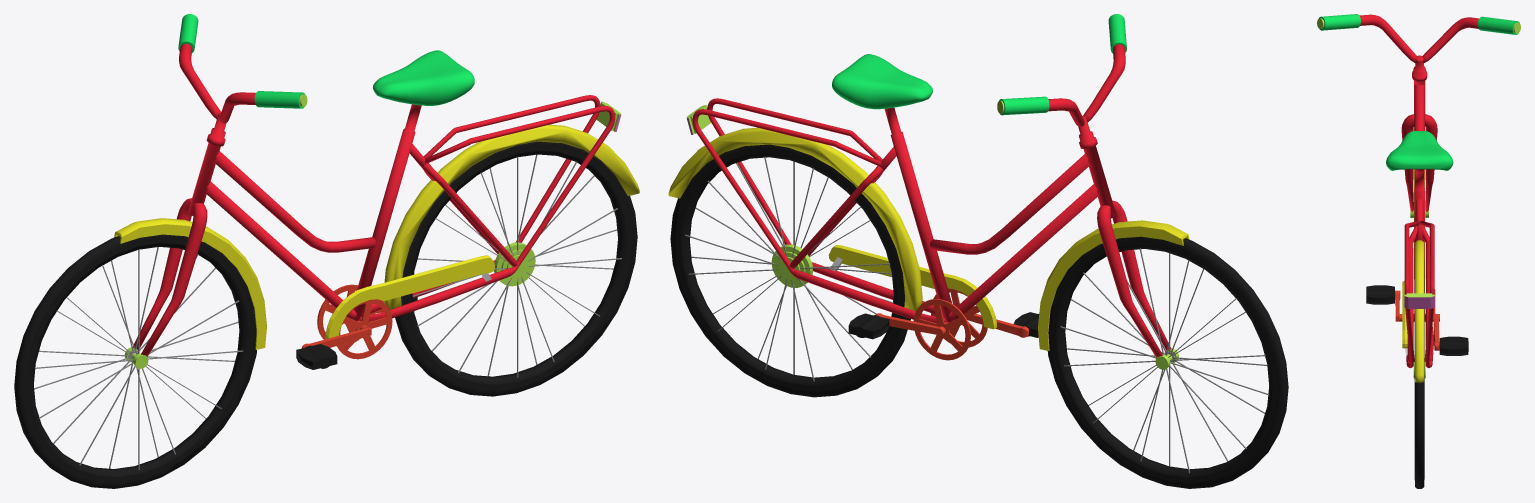
Rendered from bicycle.fbx.
3 views of the same model, side by side, from view 1: azimuth 30°, elevation 25°; view 2: azimuth 150°, elevation 25°; view 3: azimuth 270°, elevation 25° (orthographic). The views are drawn at different scales.
Parts seen in each view (by area): view 1: Cylinder, Cylinder.011_Cylinder.015, Cylinder.016_Cylinder.020, Cylinder.010_Cylinder.013, Cylinder.001_Cylinder.003, Cube.010_Cube.025, Cylinder.012_Cylinder.016, Cylinder.022_Cylinder.030, Cube_Cube.012, Cylinder.009_Cylinder.012, Cylinder.007_Cylinder.010, Cylinder.005_Cylinder.008 (+11 smaller); view 2: Cylinder, Cylinder.011_Cylinder.015, Cylinder.016_Cylinder.020, Cylinder.010_Cylinder.013, Cylinder.001_Cylinder.003, Cube.010_Cube.025, Cylinder.012_Cylinder.016, Cylinder.022_Cylinder.030, Cylinder.009_Cylinder.012, Cylinder.007_Cylinder.010, Cylinder.006_Cylinder.009, Cylinder.017_Cylinder.023 (+11 smaller); view 3: Cube.010_Cube.025, Cylinder.016_Cylinder.020, Cylinder.025_Cylinder.037, Cylinder.010_Cylinder.013, Cylinder.024_Cylinder.038, Cylinder.012_Cylinder.016, Cylinder.022_Cylinder.030, Cylinder.014_Cylinder.018, Cube.007_Cube.022, Cube.005_Cube.018, Cylinder.005_Cylinder.008, Cylinder.007_Cylinder.010 (+5 smaller).
Boxes of the visible parts, left/top/right/bottom form: Cylinder: left=25, top=237, right=253, bottom=482; Cylinder.011_Cylinder.015: left=403, top=144, right=632, bottom=390; Cylinder.016_Cylinder.020: left=359, top=95, right=615, bottom=321; Cylinder.010_Cylinder.013: left=383, top=124, right=639, bottom=309; Cylinder.001_Cylinder.003: left=14, top=234, right=256, bottom=488; Cube.010_Cube.025: left=373, top=50, right=474, bottom=105; Cylinder.012_Cylinder.016: left=395, top=141, right=637, bottom=396; Cylinder.022_Cylinder.030: left=132, top=198, right=207, bottom=356; Cube_Cube.012: left=325, top=255, right=495, bottom=338; Cylinder.009_Cylinder.012: left=114, top=218, right=266, bottom=349; Cylinder.007_Cylinder.010: left=352, top=104, right=421, bottom=320; Cylinder.005_Cylinder.008: left=216, top=151, right=375, bottom=252; Cylinder: left=1051, top=239, right=1277, bottom=482; Cylinder.011_Cylinder.015: left=675, top=147, right=902, bottom=391; Cylinder.016_Cylinder.020: left=692, top=98, right=946, bottom=323; Cylinder.010_Cylinder.013: left=668, top=127, right=922, bottom=311; Cylinder.001_Cylinder.003: left=1047, top=236, right=1288, bottom=488; Cube.010_Cube.025: left=832, top=54, right=932, bottom=109; Cylinder.012_Cylinder.016: left=670, top=144, right=910, bottom=397; Cylinder.022_Cylinder.030: left=1097, top=200, right=1171, bottom=357; Cylinder.009_Cylinder.012: left=1038, top=220, right=1189, bottom=350; Cylinder.007_Cylinder.010: left=884, top=107, right=952, bottom=322; Cylinder.006_Cylinder.009: left=949, top=184, right=1097, bottom=320; Cylinder.017_Cylinder.023: left=913, top=288, right=987, bottom=360; Cube.010_Cube.025: left=1386, top=131, right=1453, bottom=170; Cylinder.016_Cylinder.020: left=1404, top=221, right=1434, bottom=368; Cylinder.025_Cylinder.037: left=1359, top=14, right=1478, bottom=63; Cylinder.010_Cylinder.013: left=1415, top=240, right=1424, bottom=382; Cylinder.024_Cylinder.038: left=1317, top=14, right=1520, bottom=34; Cylinder.012_Cylinder.016: left=1415, top=382, right=1424, bottom=488; Cylinder.022_Cylinder.030: left=1401, top=114, right=1437, bottom=211; Cylinder.014_Cylinder.018: left=1407, top=226, right=1431, bottom=362; Cube.007_Cube.022: left=1439, top=336, right=1468, bottom=355; Cube.005_Cube.018: left=1366, top=285, right=1394, bottom=304; Cylinder.005_Cylinder.008: left=1414, top=84, right=1424, bottom=185; Cylinder.007_Cylinder.010: left=1414, top=169, right=1424, bottom=312.
Size of the model in its own units: 10.07 by 6.29 by 3.34.
